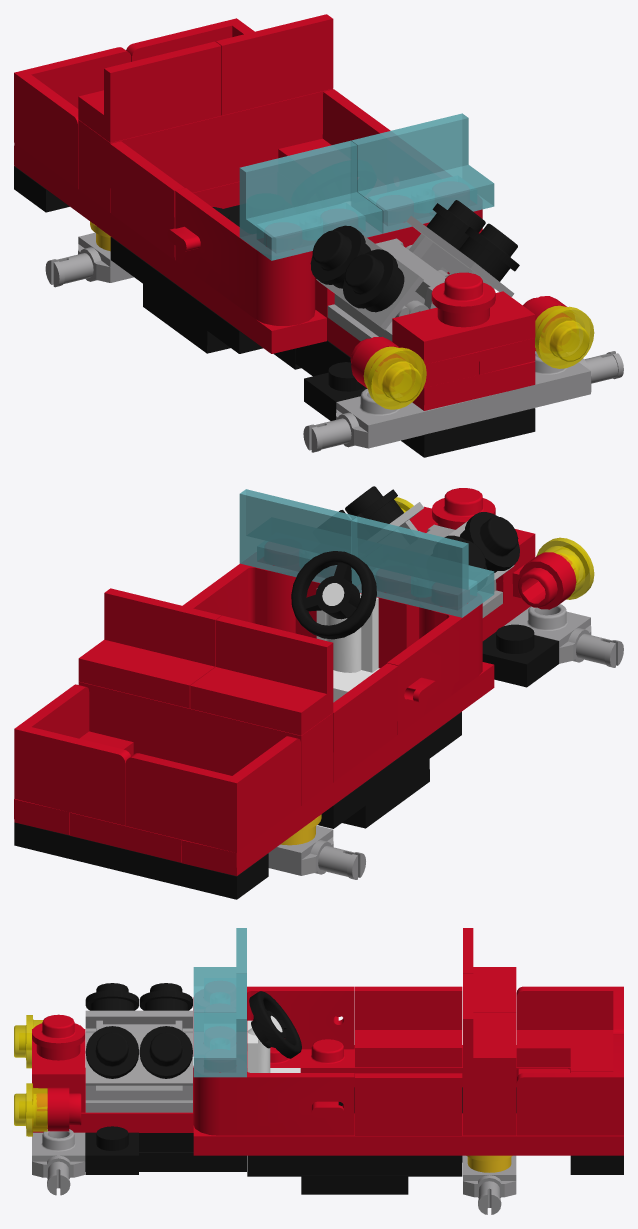
File: car.fbx
The picture shows the model from 3 angles, top to bottom: view 1: azimuth 30°, elevation 25°; view 2: azimuth 150°, elevation 25°; view 3: azimuth 270°, elevation 25°; orthographic projection. The views are drawn at different scales.
Parts seen in each view (by area): view 1: car; view 2: car; view 3: car.
Part boxes in pixels (bbox=[...]): car: bbox=[14, 14, 623, 457]; car: bbox=[14, 486, 623, 899]; car: bbox=[14, 928, 623, 1214].
Size of the model in its own units: 110 by 74.45 by 226.
